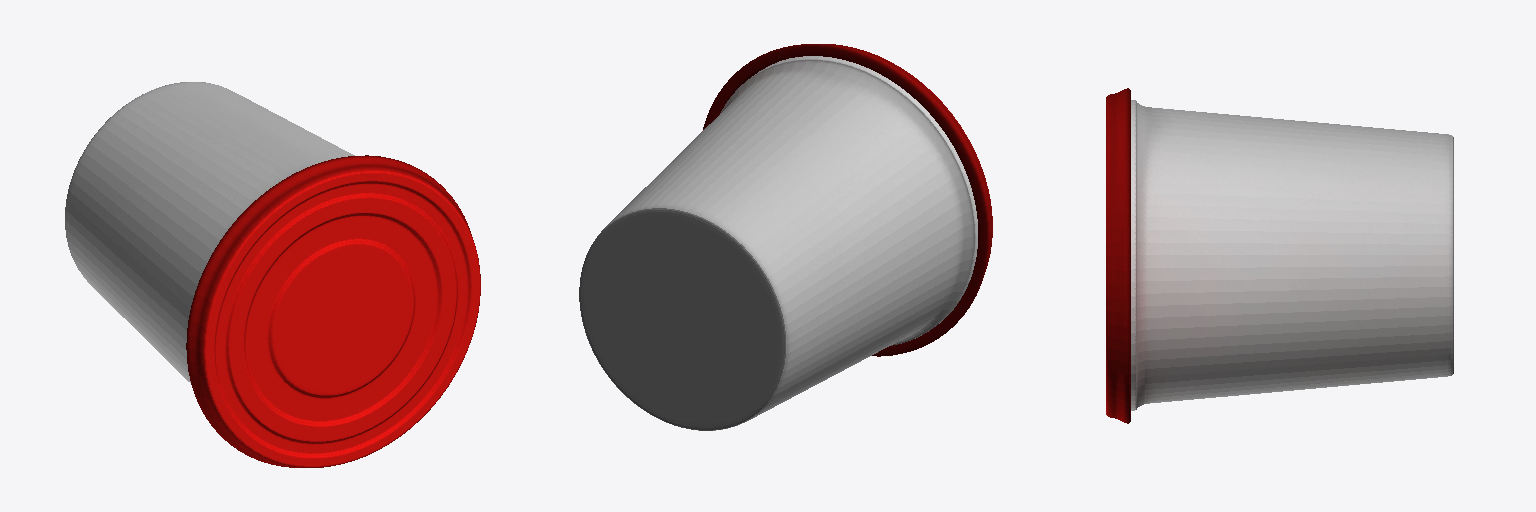
The picture shows the model from 3 angles: view 1: azimuth 30°, elevation 25°; view 2: azimuth 150°, elevation 25°; view 3: azimuth 270°, elevation 25°; orthographic projection.
Parts seen in each view (by area): view 1: 14049_Plastic_food_Storage; view 2: 14049_Plastic_food_Storage; view 3: 14049_Plastic_food_Storage.
Part boxes in pixels (x1,y1,x2,y2): 14049_Plastic_food_Storage: (65,82,480,467); 14049_Plastic_food_Storage: (579,44,992,430); 14049_Plastic_food_Storage: (1106,88,1453,423).
Bounding box in the file's own units: 4.43 × 4.43 × 4.61.
1 materials, 1 textured.